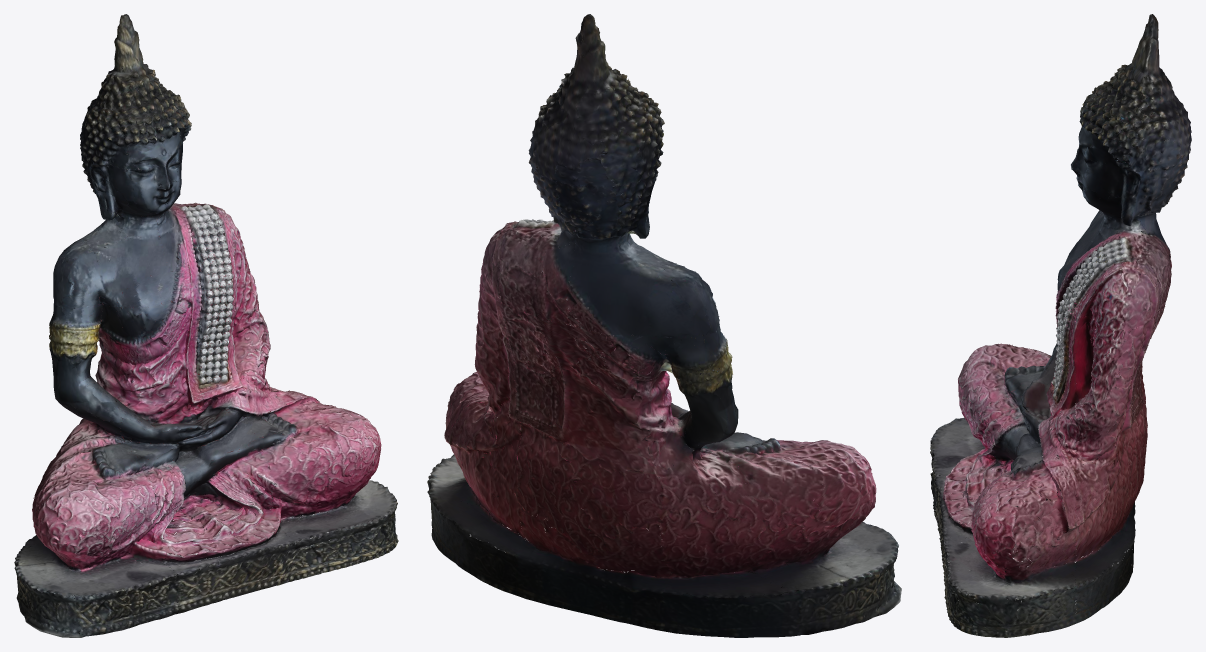
The picture shows the model from 3 angles, left to right: view 1: azimuth 30°, elevation 25°; view 2: azimuth 150°, elevation 25°; view 3: azimuth 270°, elevation 25°; orthographic projection. The views are drawn at different scales.
Visible parts, largest first — view 1: statue-022; view 2: statue-022; view 3: statue-022.
Part boxes in pixels (left/top/right/bottom): statue-022: left=14, top=14, right=398, bottom=637; statue-022: left=427, top=14, right=901, bottom=637; statue-022: left=930, top=14, right=1191, bottom=637.
Size of the model in its own units: 0.7522 by 1 by 0.4488.
1 material, 1 textured.
